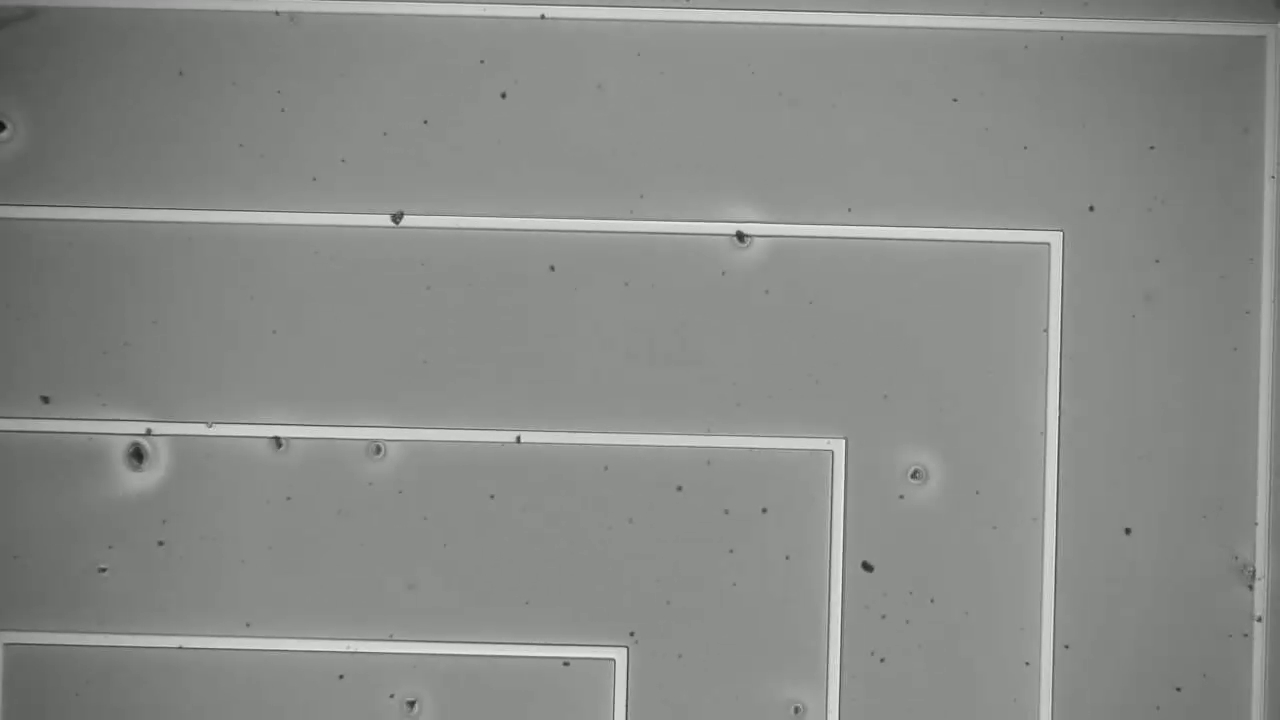edge_bite: (203, 417, 218, 440)
stains_enbedded: (727, 213, 755, 249), (384, 204, 413, 235), (136, 414, 159, 440), (511, 424, 527, 451)
